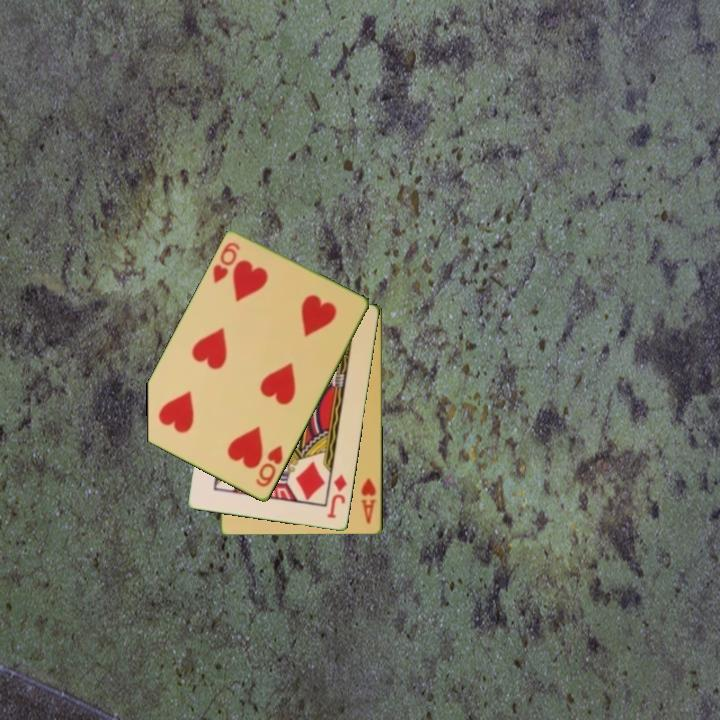6h: (252, 442, 286, 490), (209, 239, 243, 286)
Ah: (358, 475, 379, 527)
Jd: (324, 471, 350, 521)
